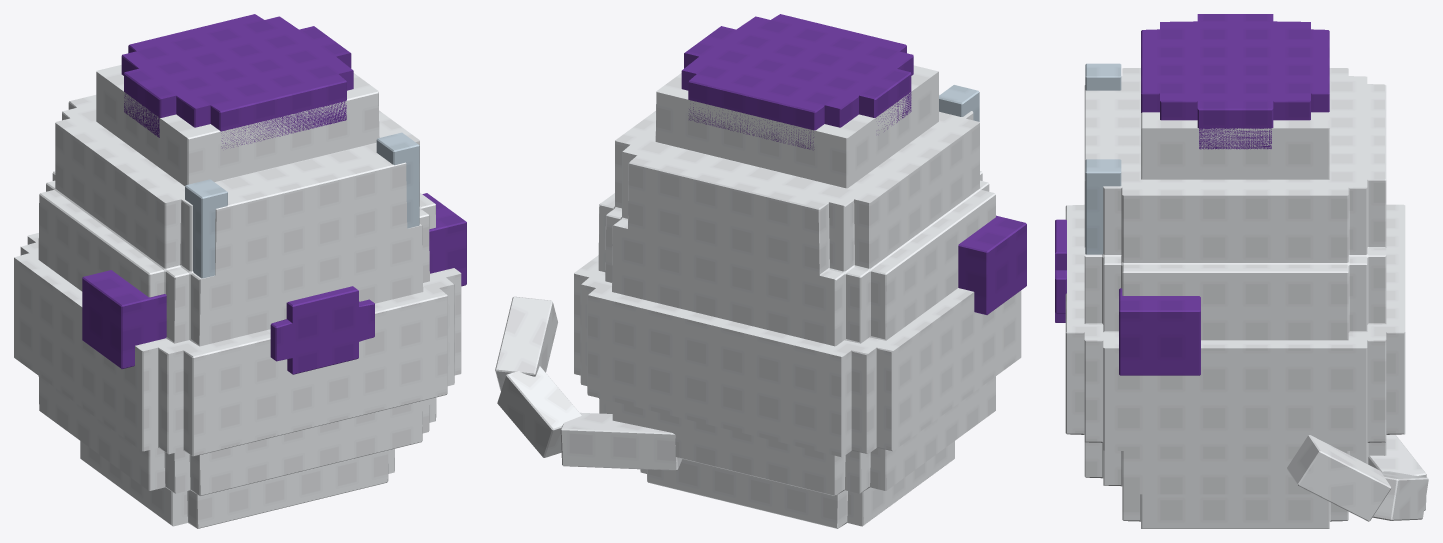
Rendered from Frieza_Egg.fbx.
3 views of the same model, side by side, from view 1: azimuth 30°, elevation 25°; view 2: azimuth 150°, elevation 25°; view 3: azimuth 270°, elevation 25° (orthographic). The views are drawn at different scales.
Parts seen in each view (by area): view 1: Frieza_Egg; view 2: Frieza_Egg; view 3: Frieza_Egg.
Part boxes in pixels (x1=…): Frieza_Egg: x1=14, y1=14, x2=466, y2=528; Frieza_Egg: x1=495, y1=14, x2=1026, y2=528; Frieza_Egg: x1=1055, y1=14, x2=1428, y2=528.
Bounding box in the file's own units: 350 × 320 × 263.
3 materials, 3 textured.
